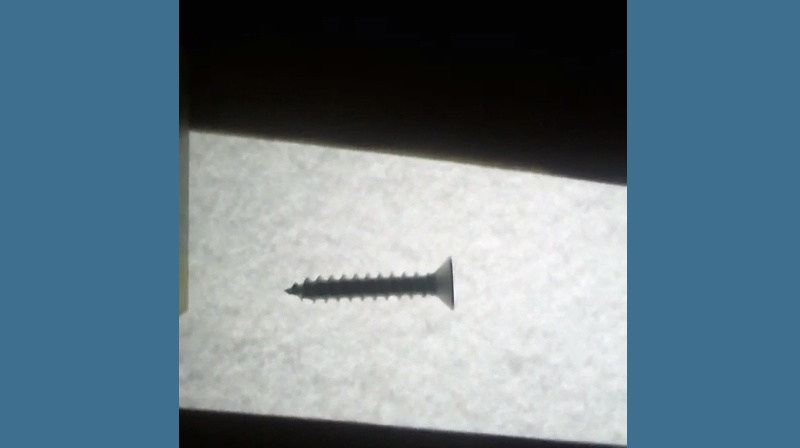S001: (281, 255, 458, 309)
